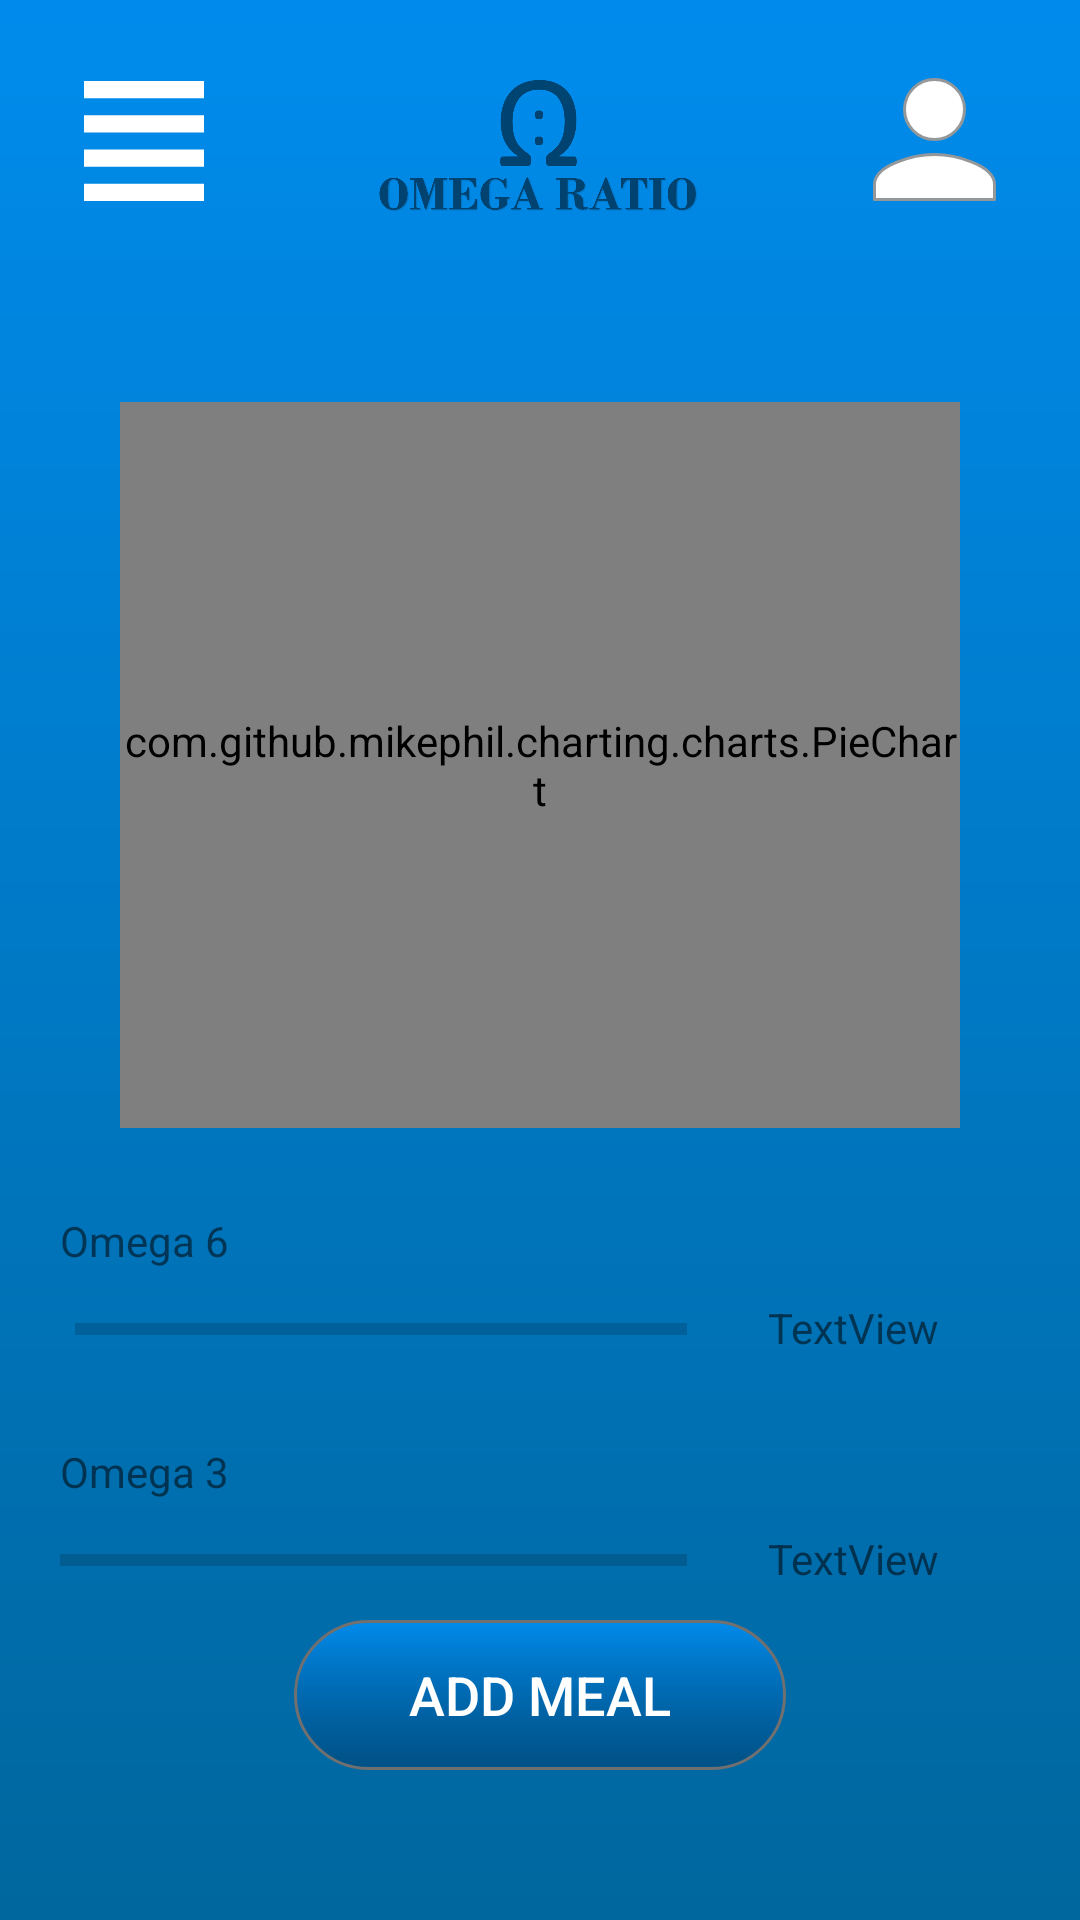

Named icons in this screenshot (1080×1920) and their centers, (x,y):
menubar: (144,141)
profileicon: (934,139)
